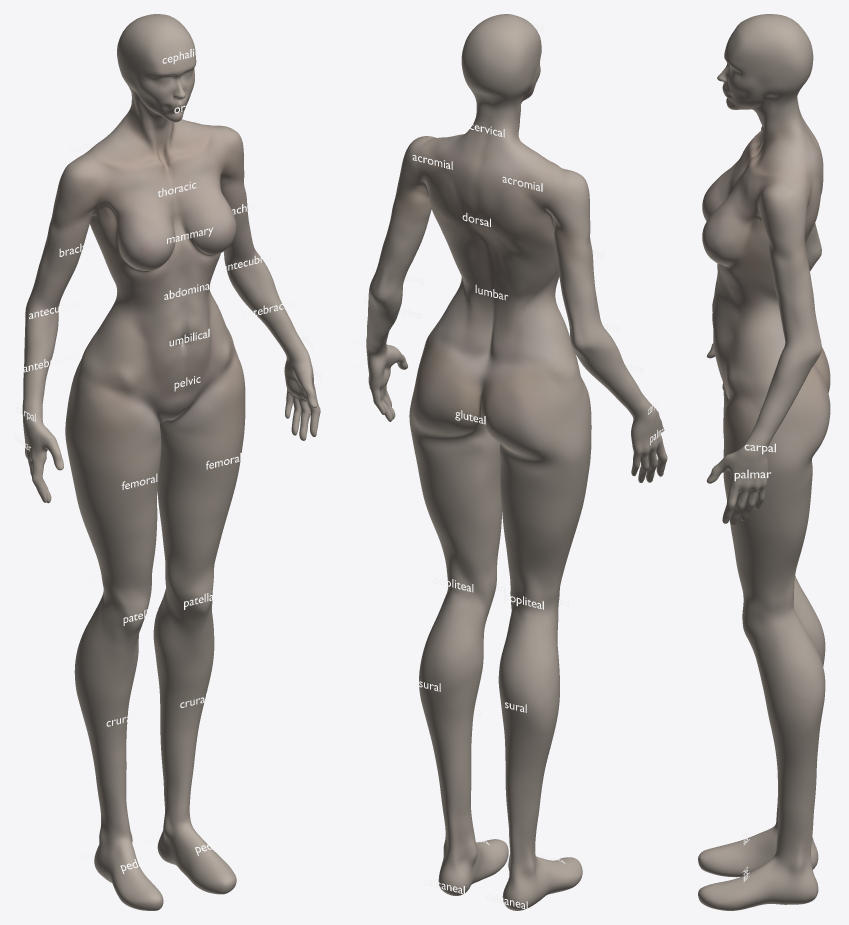
Rendered from skin-detail.glb.
3 renders of one model, left to right at view 1: azimuth 30°, elevation 25°; view 2: azimuth 150°, elevation 25°; view 3: azimuth 270°, elevation 25°, orthographic.
Visible parts, largest first — view 1: Merged_Extract9.002_AP013.001_0; view 2: Merged_Extract9.002_AP013.001_0; view 3: Merged_Extract9.002_AP013.001_0.
Boxes of the visible parts, x1=… form: Merged_Extract9.002_AP013.001_0: x1=22, y1=14, x2=320, y2=910; Merged_Extract9.002_AP013.001_0: x1=366, y1=14, x2=667, y2=910; Merged_Extract9.002_AP013.001_0: x1=698, y1=14, x2=830, y2=910.
Bounding box in the file's own units: 0.1747 × 0.491 × 0.0698.
